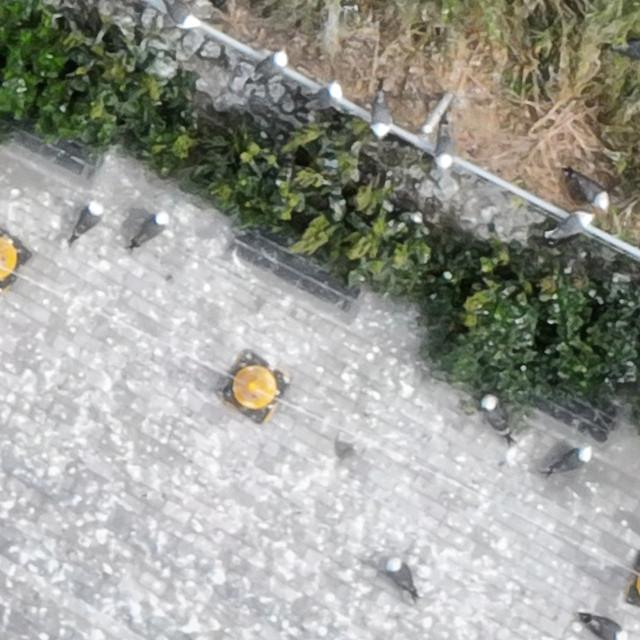umineko: (130, 210, 172, 242), (551, 213, 592, 238), (309, 82, 342, 110), (574, 178, 606, 205), (168, 2, 200, 29), (481, 398, 505, 433), (389, 562, 415, 594), (254, 52, 286, 78), (371, 96, 390, 136), (435, 125, 454, 165), (554, 449, 590, 469), (78, 206, 100, 237), (590, 619, 622, 640)
